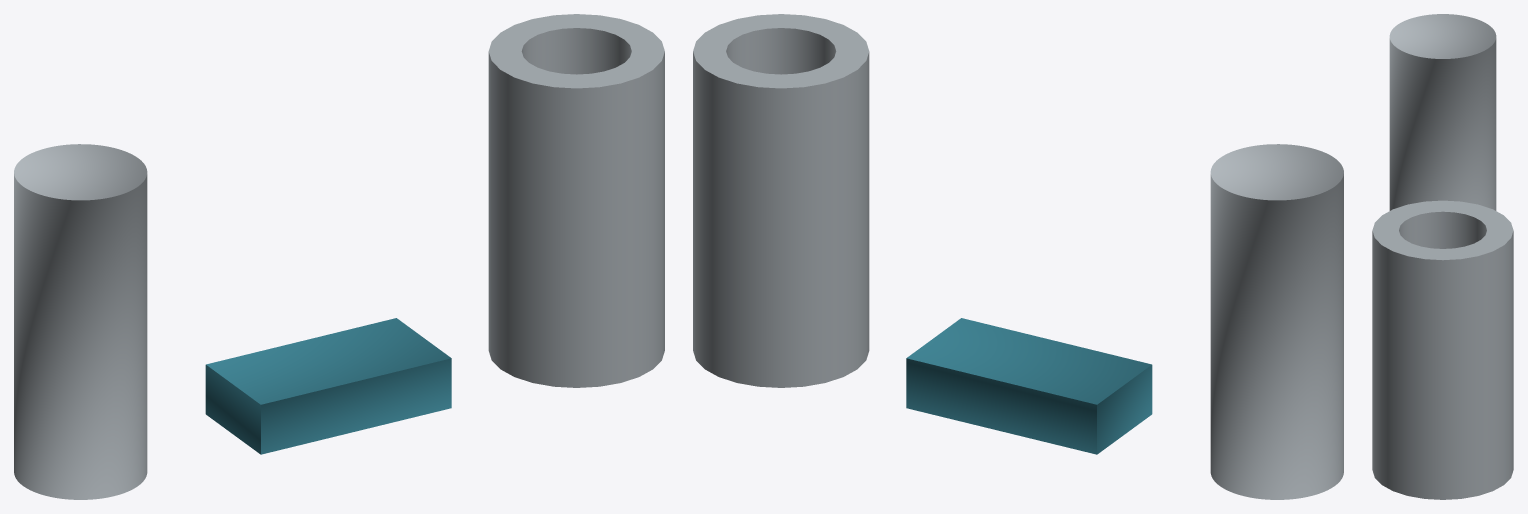
File: VLAB_measurement_samples.fbx
3 views of the same model, side by side, from view 1: azimuth 30°, elevation 25°; view 2: azimuth 150°, elevation 25°; view 3: azimuth 270°, elevation 25° (orthographic). The views are drawn at different scales.
Parts seen in each view (by area): view 1: VLAB_measurement_samples_Tube_VIS, VLAB_measurement_samples_Cylinder_VIS, VLAB_measurement_samples_Block_VIS; view 2: VLAB_measurement_samples_Tube_VIS, VLAB_measurement_samples_Cylinder_VIS, VLAB_measurement_samples_Block_VIS; view 3: VLAB_measurement_samples_Tube_VIS, VLAB_measurement_samples_Cylinder_VIS.
Boxes of the visible parts, left/top/right/bottom form: VLAB_measurement_samples_Tube_VIS: left=488, top=14, right=664, bottom=387; VLAB_measurement_samples_Cylinder_VIS: left=14, top=144, right=147, bottom=499; VLAB_measurement_samples_Block_VIS: left=205, top=318, right=451, bottom=454; VLAB_measurement_samples_Tube_VIS: left=693, top=14, right=869, bottom=387; VLAB_measurement_samples_Cylinder_VIS: left=1210, top=144, right=1343, bottom=499; VLAB_measurement_samples_Block_VIS: left=906, top=318, right=1152, bottom=454; VLAB_measurement_samples_Tube_VIS: left=1372, top=200, right=1513, bottom=499; VLAB_measurement_samples_Cylinder_VIS: left=1389, top=14, right=1496, bottom=210.
Size of the model in its own units: 0.0661 by 0.03 by 0.016.
